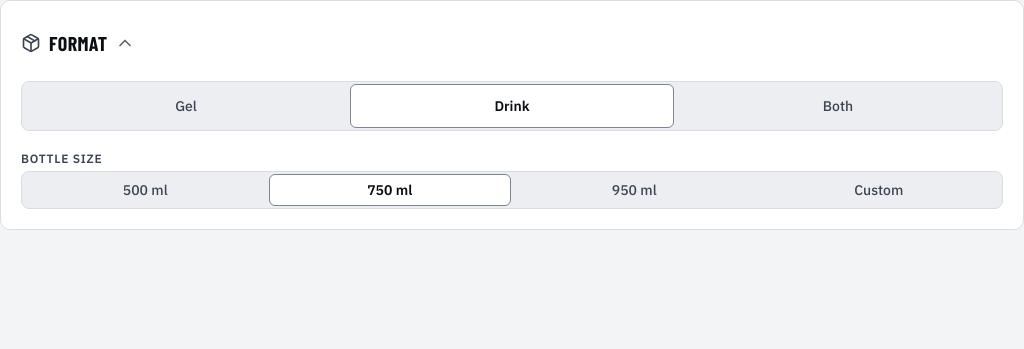
FormatSection: bottle size › picks a bottle size from the presets or a custom size
Click the radio button labelled "500 ml" at (145, 190), box [24,174,266,206]
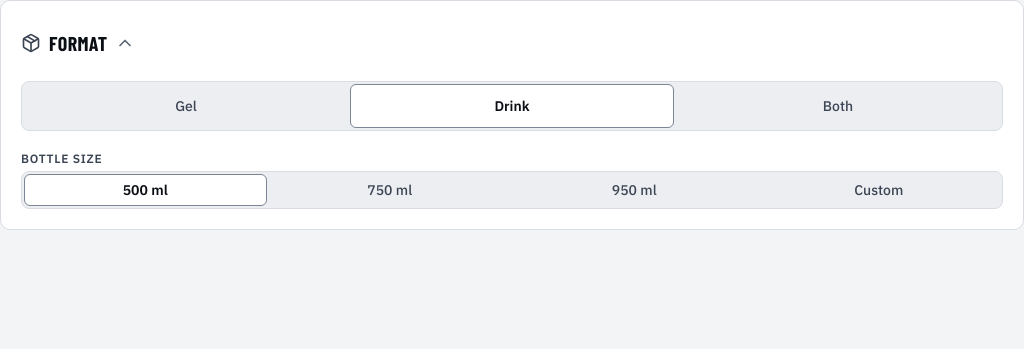
Check: the number field labelled "Custom bottle size" is not shown
Check: the radio button labelled "500 ml" is checked, box [24,174,266,206]
Click the radio button labelled "Custom" at (879, 190), box [758,174,1000,206]
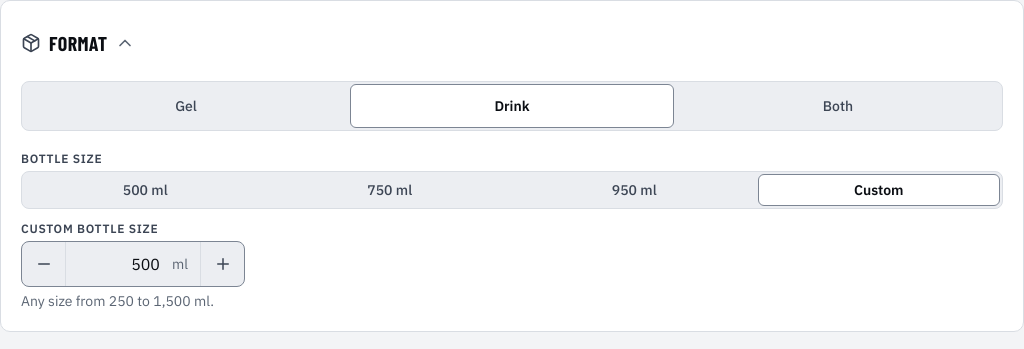
Check: the number field labelled "Custom bottle size" holds "500"
Replace the text in the number field labelled "Custom bottle size" with "620" at (119, 264), box [66,242,172,286]
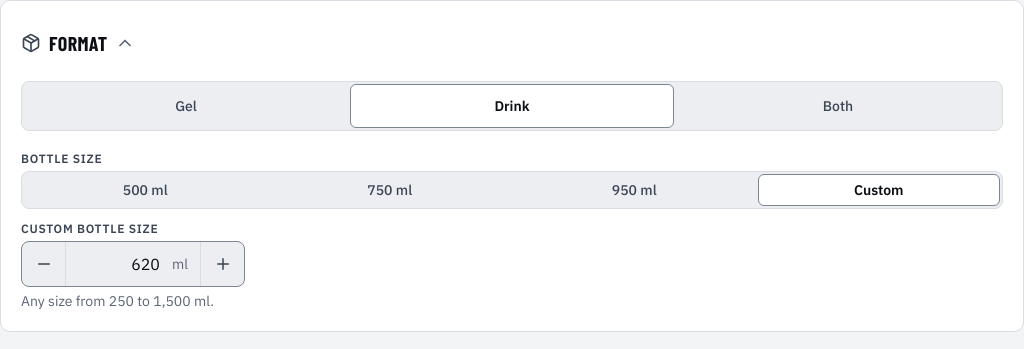
Check: the radio button labelled "Custom" is checked, box [758,174,1000,206]
Click the radio button labelled "950 ml" at (634, 190), box [513,174,756,206]
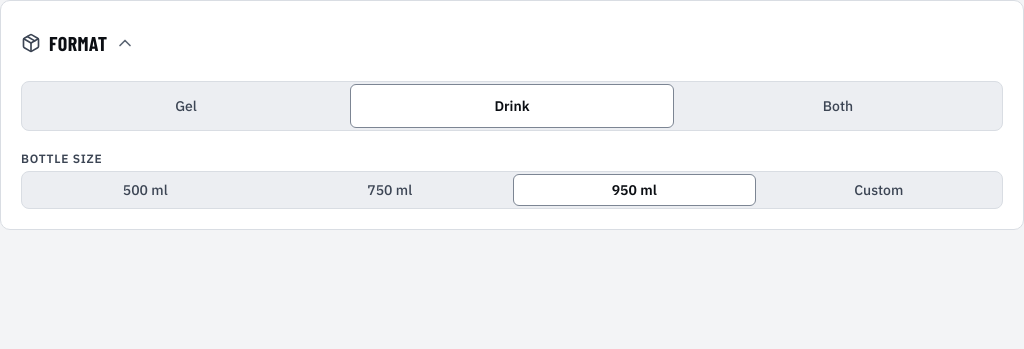
Check: the label "Custom bottle size" is gone
